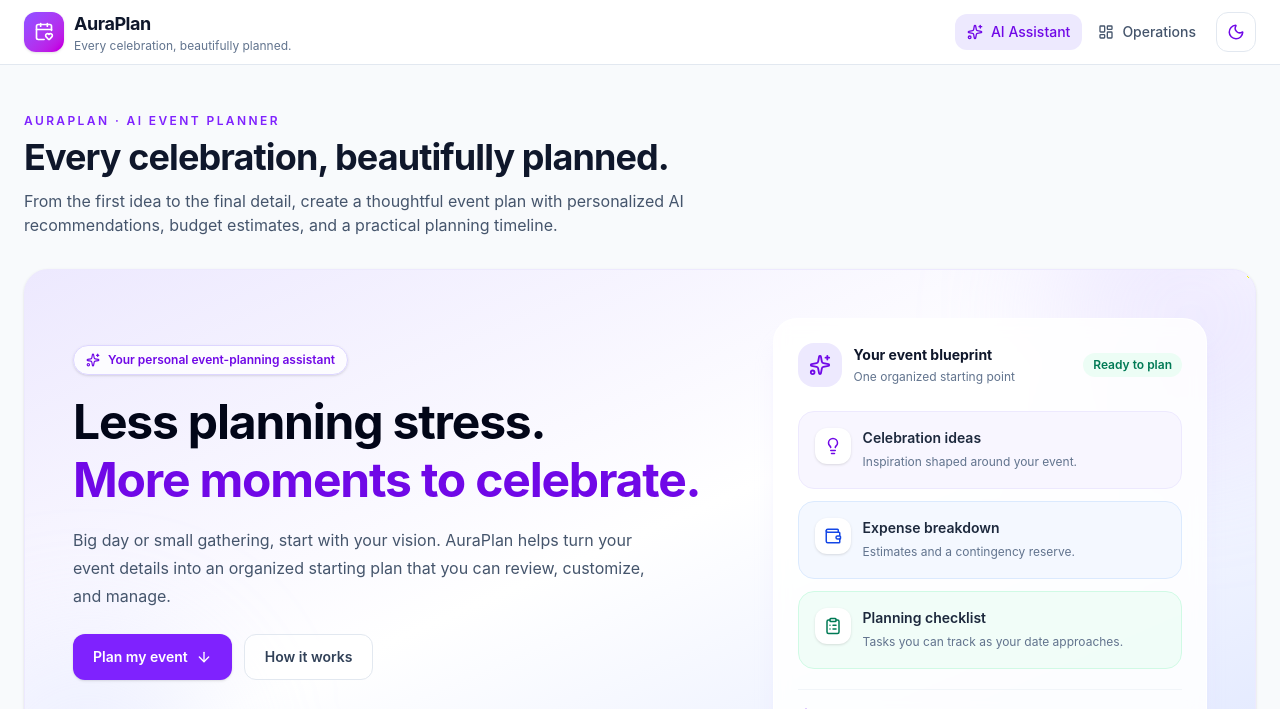
Scenario: App shell › toggles and remembers the theme
Click the button named "switch to dark mode" at (1236, 32), box [1216,12,1256,52]
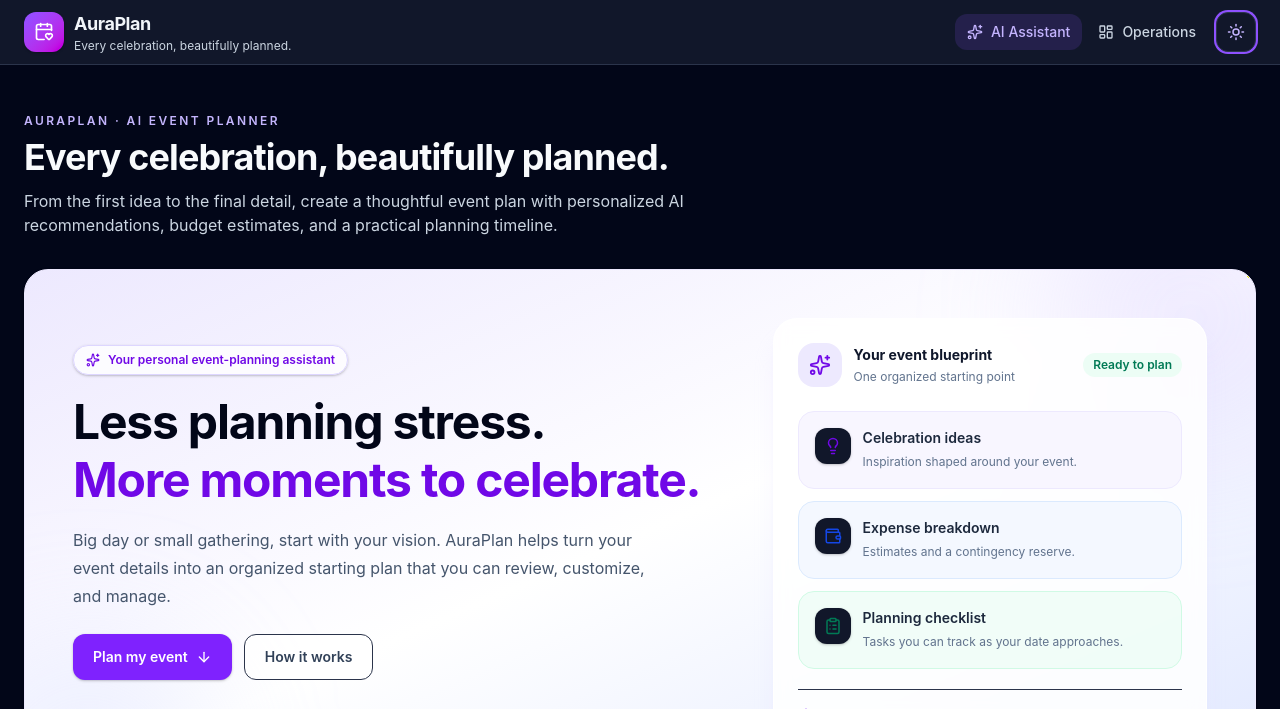
Now the button named "switch to light mode" is shown, box [1216,12,1256,52]
